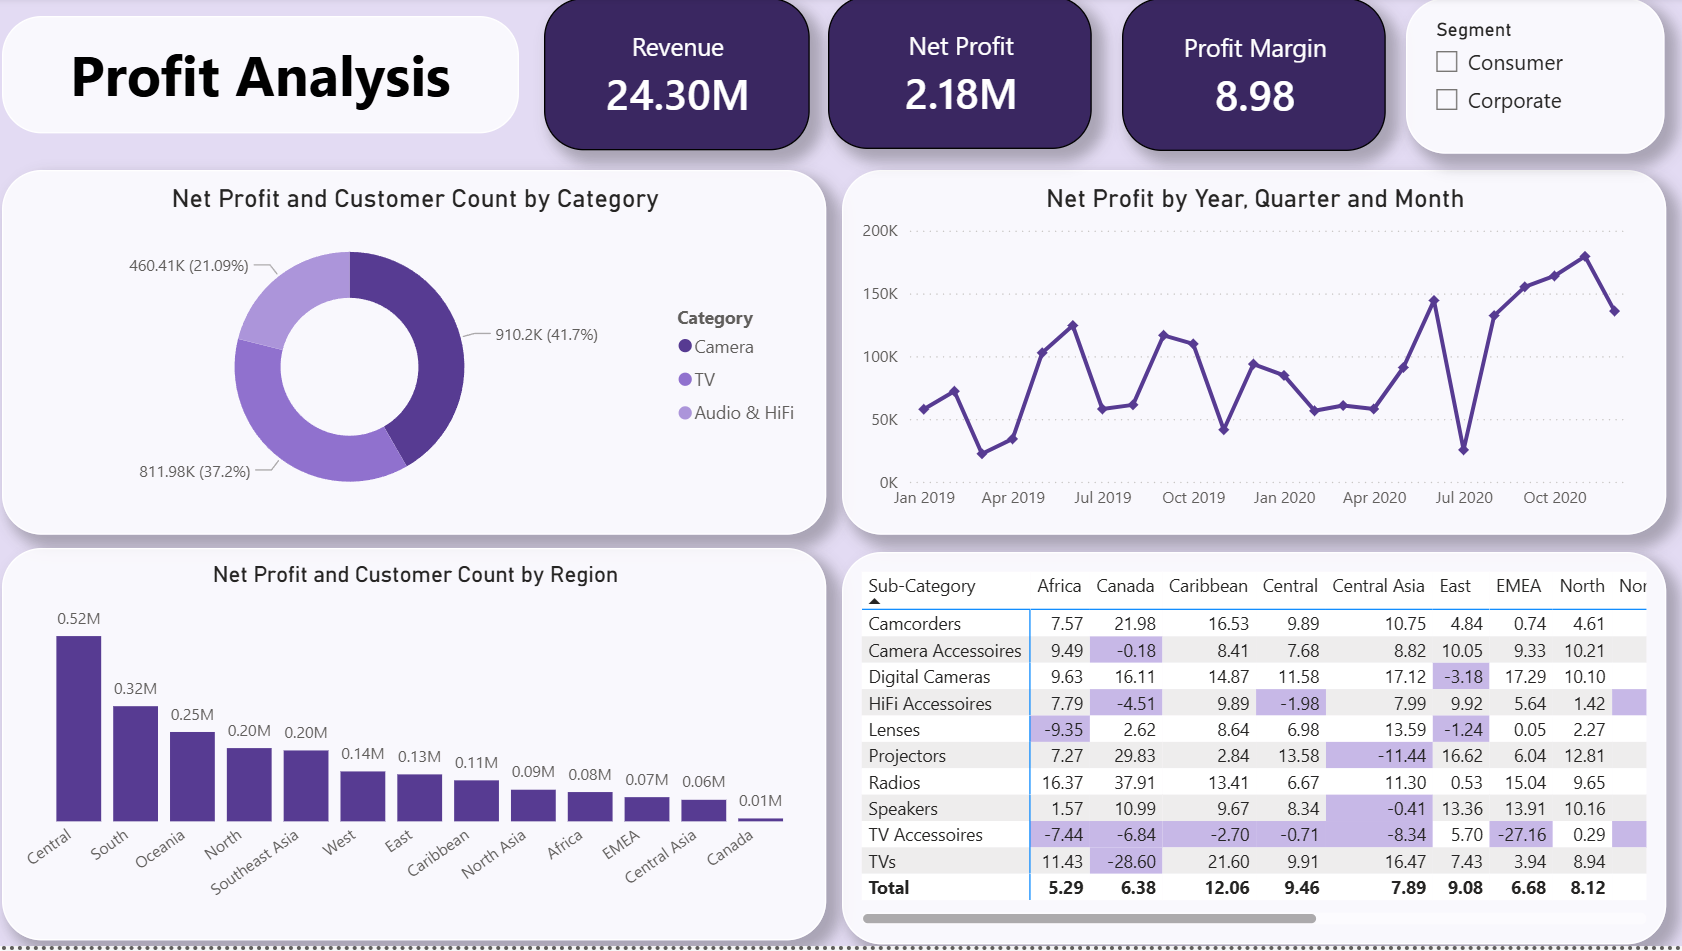

The page's visual inventory and layout, read from the dashboard file:
{"tool":"powerbi","page":{"name":"Profit Analysis","canvas":[1280,720],"ordinal":0},"visuals":[{"type":"cardVisual","fields":{"Data":["Sum(SAC.Sales)"]},"box":[414.3,1.4,201.4,115.7],"z":0},{"type":"cardVisual","fields":{"Data":["SAC.Profit Margin"]},"box":[852,2,200,116],"z":1000},{"type":"donutChart","fields":{"Category":["SAC.Category"],"Y":["Sum(SAC.Profit)"]},"box":[3.8,132.5,625,276.4],"z":2000},{"type":"lineChart","fields":{"Category":["SAC.Order Date.Variation.Date Hierarchy.Year","SAC.Order Date.Variation.Date Hierarchy.Quarter","SAC.Order Date.Variation.Date Hierarchy.Month","SAC.Order Date.Variation.Date Hierarchy.Day"],"Y":["Sum(SAC.Profit)"]},"box":[640,132.5,624.9,276.4],"z":3000},{"type":"clusteredColumnChart","fields":{"Category":["SAC.Region"],"Y":["Sum(SAC.Profit)"]},"box":[3.8,418.5,625,297.3],"z":4000},{"type":"textbox","box":[3.8,15.1,392,89],"z":5000},{"type":"cardVisual","fields":{"Data":["Sum(SAC.Profit)"]},"box":[630,0,200,116],"z":6000},{"type":"pivotTable","fields":{"Rows":["SAC.Sub-Category"],"Columns":["SAC.Region"],"Values":["SAC.Profit Margin"]},"box":[640,422.2,624.9,297.3],"z":7000},{"type":"slicer","fields":{"Values":["SAC.Segment"]},"box":[1068,2,196,118],"z":8000}]}

Visuals, with their boxes in screenshot pixels (x1, y1, x2, y2), scaled from the page's 1280x720 canvas onto the 1682x951 screenshot:
cardVisual - Sum(SAC.Sales): x1=544, y1=2, x2=809, y2=155
cardVisual - SAC.Profit Margin: x1=1120, y1=3, x2=1382, y2=156
donutChart - SAC.Category x Sum(SAC.Profit): x1=5, y1=175, x2=826, y2=540
lineChart - SAC.Order Date.Variation.Date Hierarchy.Year x SAC.Order Date.Variation.Date Hierarchy.Quarter: x1=841, y1=175, x2=1662, y2=540
clusteredColumnChart - SAC.Region x Sum(SAC.Profit): x1=5, y1=553, x2=826, y2=945
textbox: x1=5, y1=20, x2=520, y2=137
cardVisual - Sum(SAC.Profit): x1=828, y1=0, x2=1091, y2=153
pivotTable - SAC.Sub-Category x SAC.Region: x1=841, y1=558, x2=1662, y2=950
slicer - SAC.Segment: x1=1403, y1=3, x2=1661, y2=158
